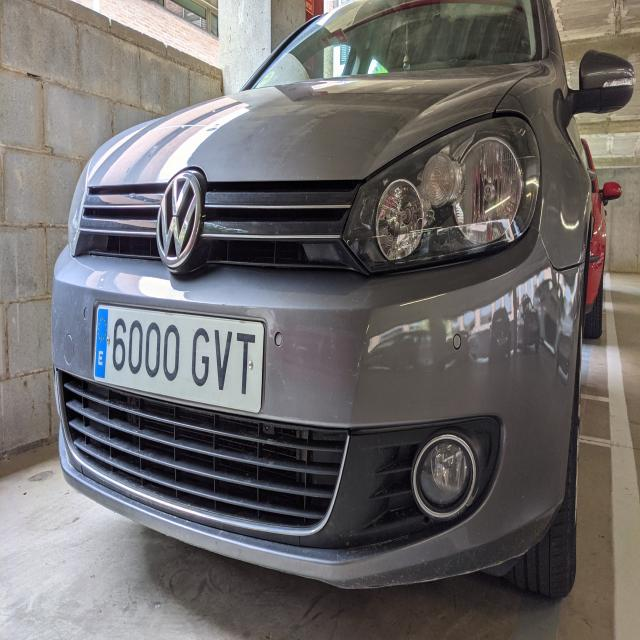license_plate-34Td: (95, 304, 264, 413)
